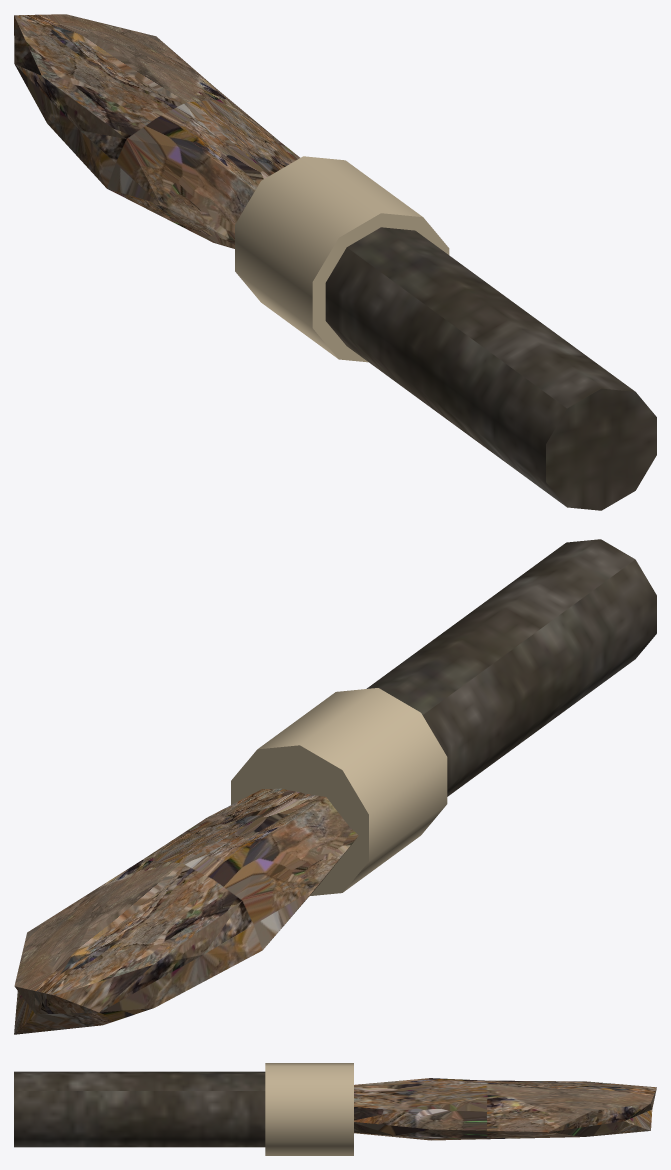
Rendered from stone_knife.glb.
The picture shows the model from 3 angles, top to bottom: view 1: azimuth 30°, elevation 25°; view 2: azimuth 150°, elevation 25°; view 3: azimuth 270°, elevation 25°; orthographic projection. The views are drawn at different scales.
Parts seen in each view (by area): view 1: handle, blade, lash; view 2: blade, handle, lash; view 3: handle, blade, lash.
Part boxes in pixels (x1,y1,x2,y2): handle: (325,227,656,510); blade: (14,14,300,248); lash: (235,156,449,362); blade: (14,788,358,1034); handle: (366,539,656,796); lash: (231,688,447,896); handle: (14,1071,265,1147); blade: (354,1078,656,1140); lash: (265,1063,353,1155).
Bounding box in the file's own units: 0.0359 × 0.032 × 0.2175.
Materials: 3 (2 with a texture image).
